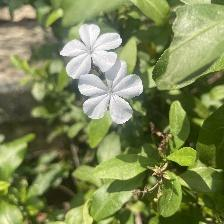chitrak: (79, 58, 146, 127), (65, 24, 120, 76)
